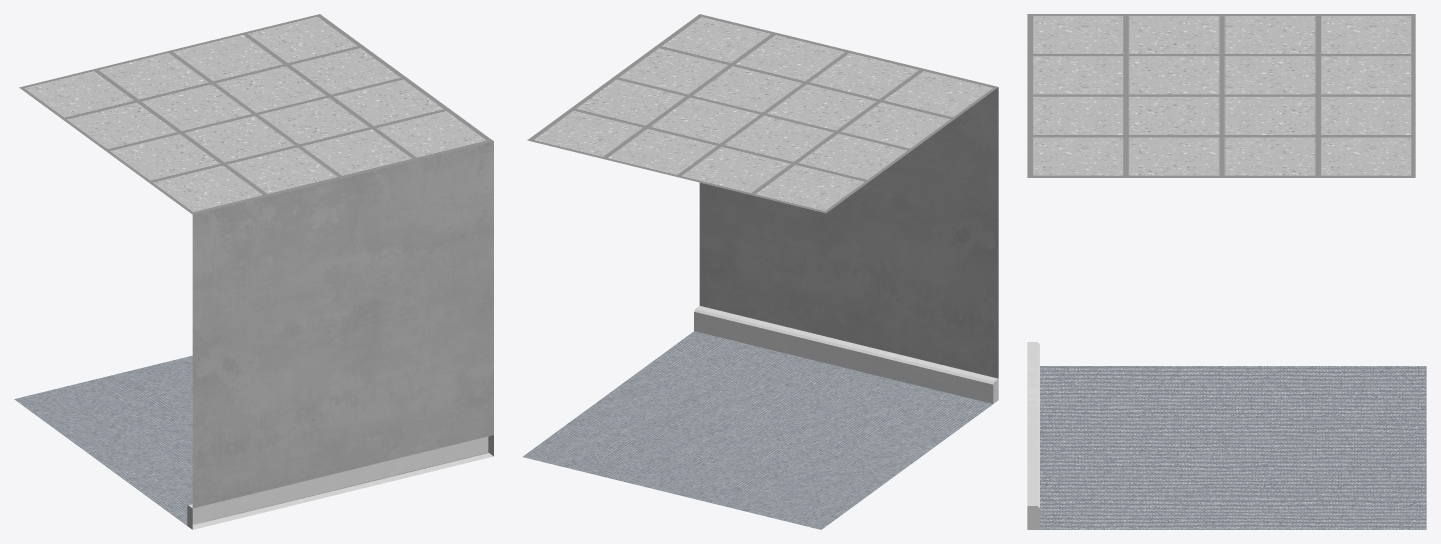
Rendered from Office_Wall.fbx.
3 renders of one model, left to right at view 1: azimuth 30°, elevation 25°; view 2: azimuth 150°, elevation 25°; view 3: azimuth 270°, elevation 25°, orthographic. The views are drawn at different scales.
Parts seen in each view (by area): view 1: pCube1, pCube12, pCube9; view 2: pCube1, pCube12, pCube9; view 3: pCube12, pCube9, pCube1.
Part boxes in pixels (bbox=[...]): pCube1: bbox=[187, 141, 493, 529]; pCube12: bbox=[19, 14, 493, 214]; pCube9: bbox=[14, 355, 488, 525]; pCube1: bbox=[694, 87, 998, 403]; pCube12: bbox=[527, 14, 998, 213]; pCube9: bbox=[522, 331, 992, 529]; pCube12: bbox=[1027, 14, 1415, 177]; pCube9: bbox=[1040, 366, 1426, 529]; pCube1: bbox=[1027, 342, 1039, 529].
Bounding box in the file's own units: 3.5 × 3.5 × 3.6.
1 material, 1 textured.
